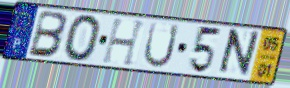5: (188, 24, 222, 75)
B: (26, 9, 70, 60)
H: (100, 17, 149, 68)
N: (214, 27, 262, 79)
O: (62, 13, 103, 63)
U: (141, 20, 182, 70)
